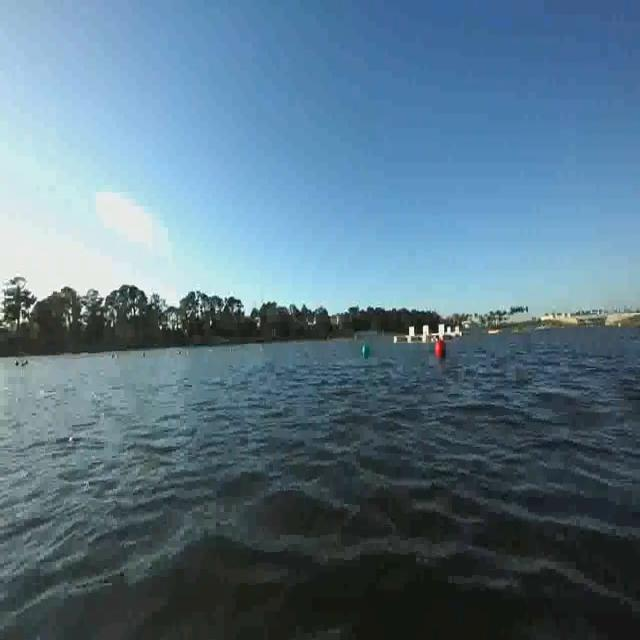green-buoy: (362, 343, 370, 357)
red-buoy: (435, 342, 443, 359)
